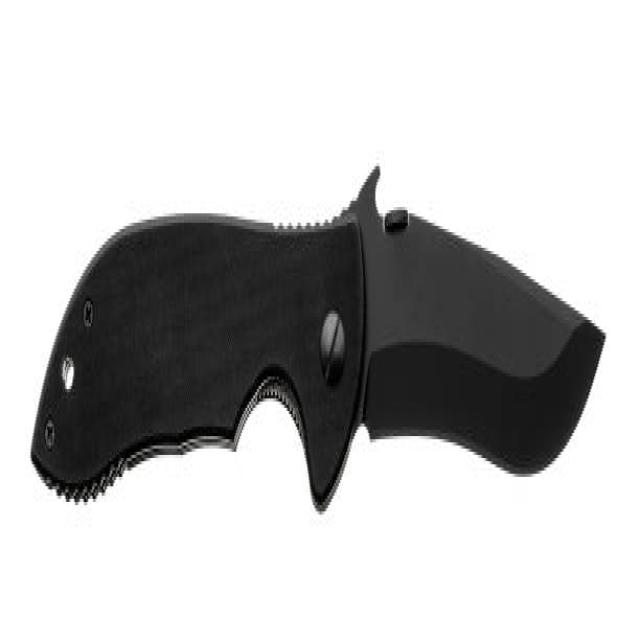knife: (26, 141, 611, 518)
